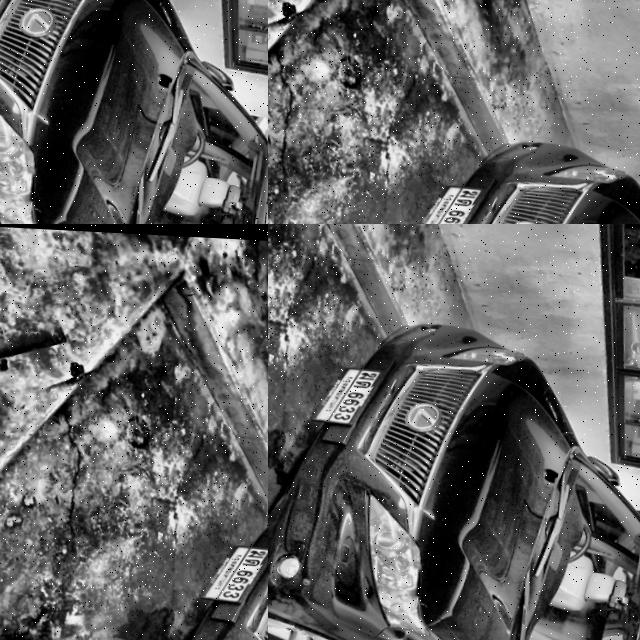license-plate: (310, 358, 389, 426)
